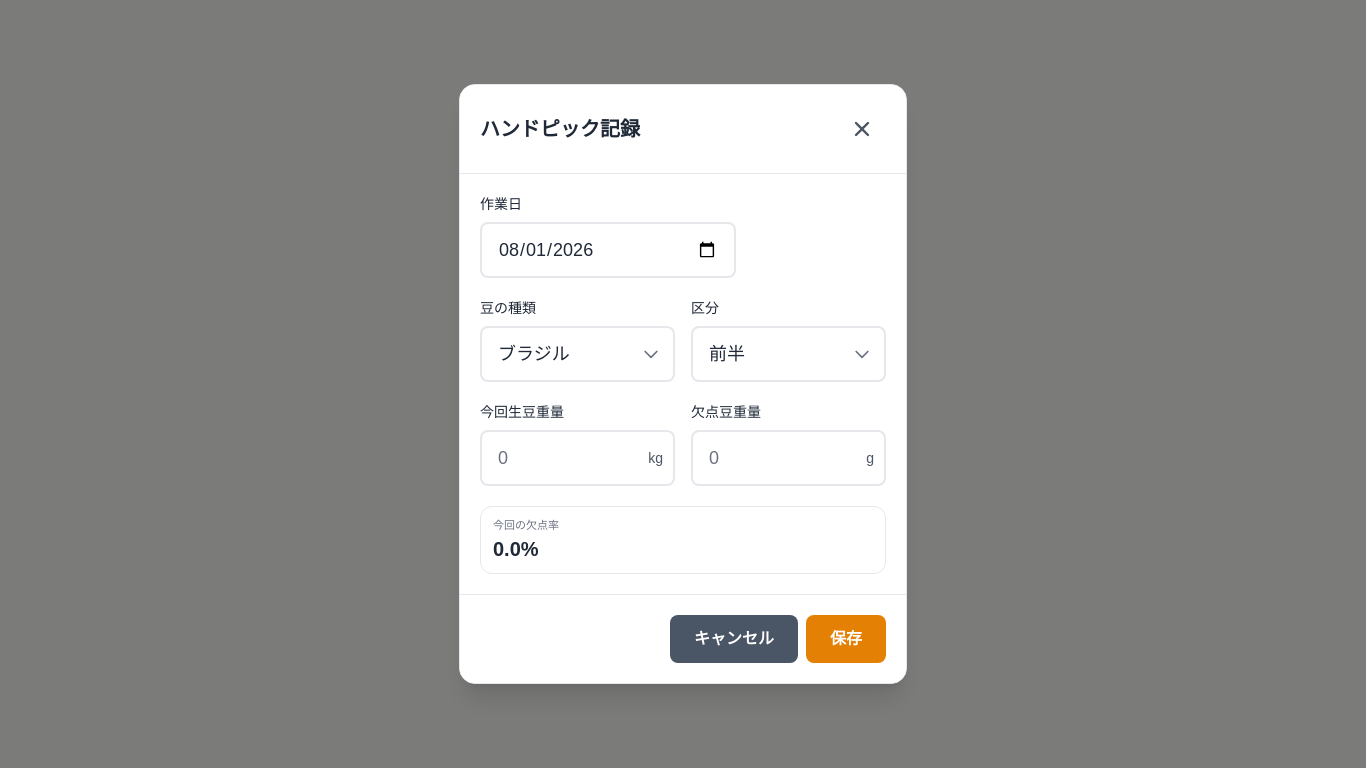
HandpickEntryModal › 保存処理が失敗するとエラーを表示する
This screenshot has width=1366, height=768.
Type "10" into the number field labelled "今回生豆重量" at (578, 458), box [480, 430, 675, 486]
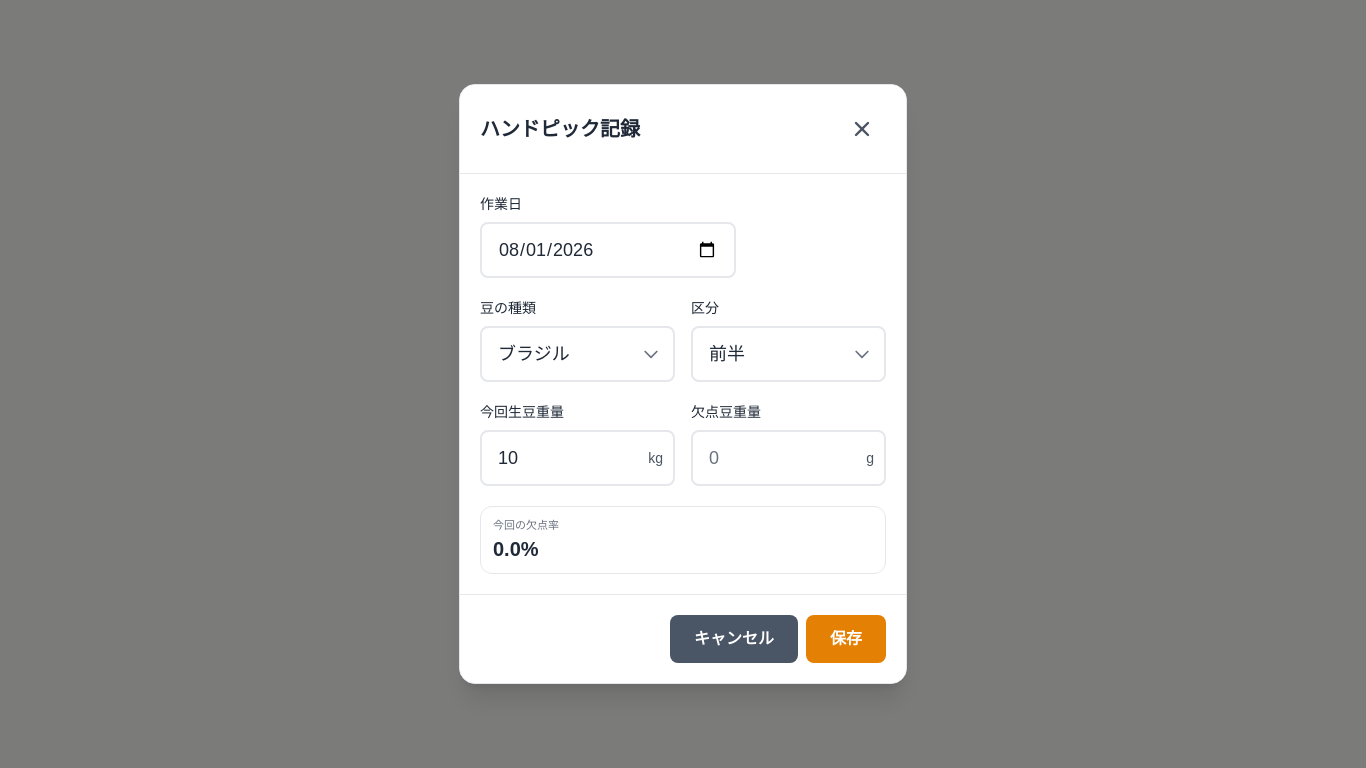
Click the button "保存" at (846, 639), box [806, 615, 886, 663]
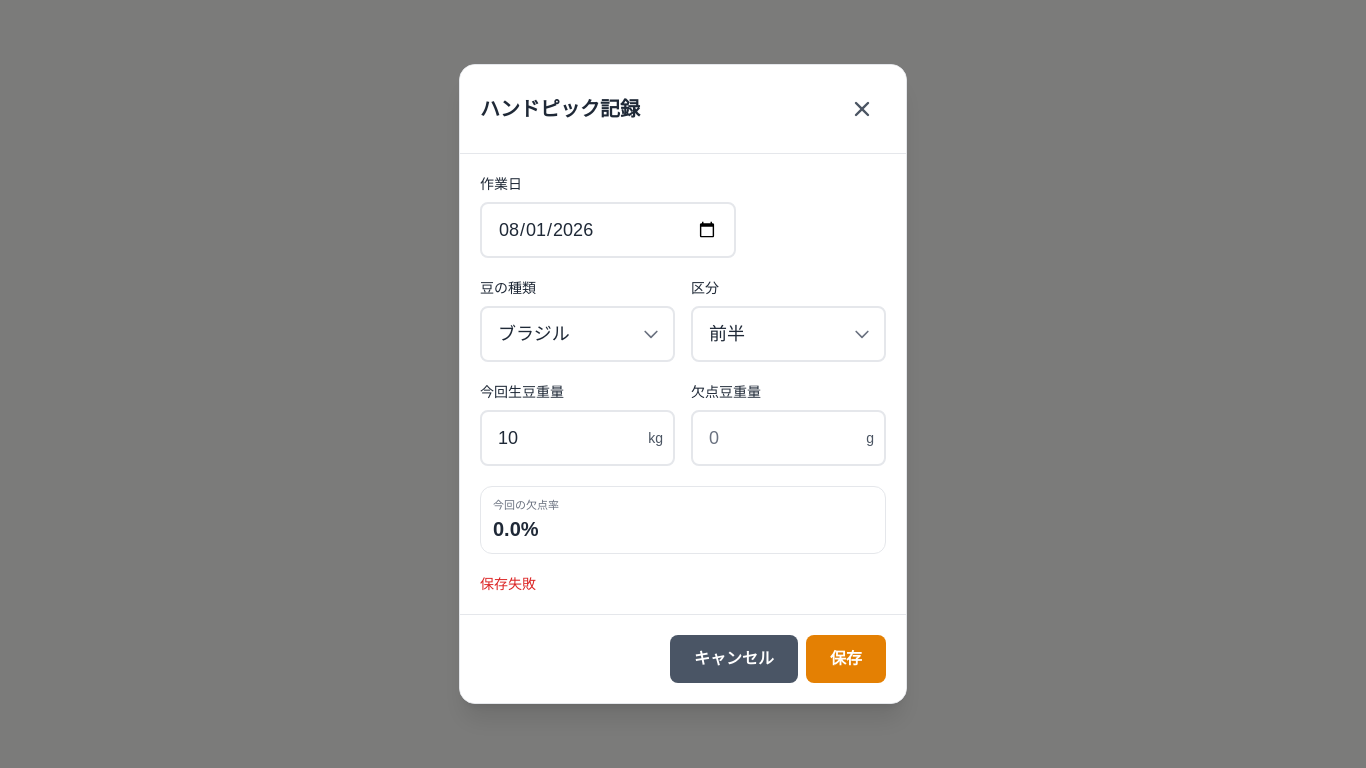
Expected: the message "保存失敗" is shown, [480, 576, 536, 592]
